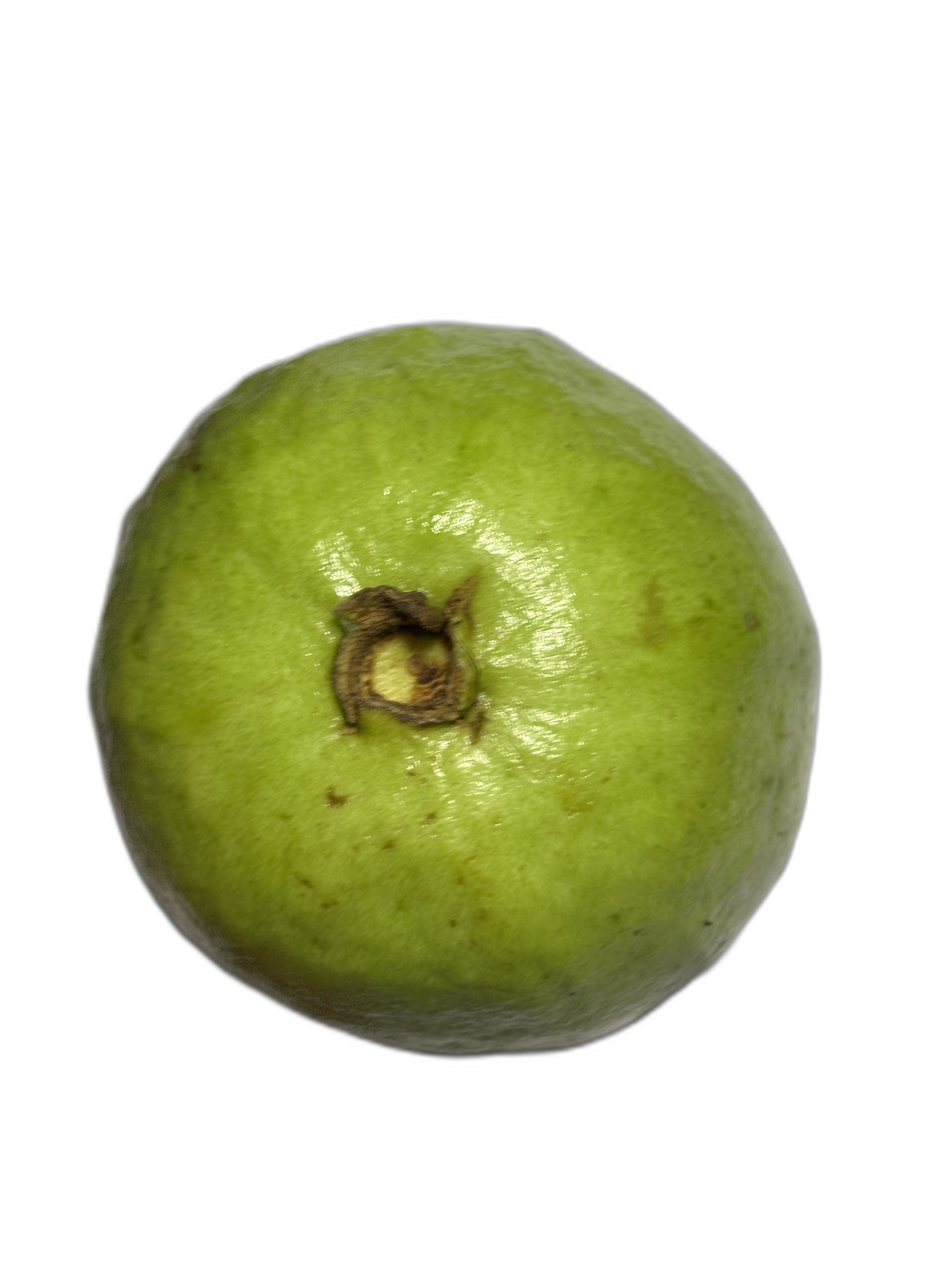guava: (195, 236, 939, 1234)
